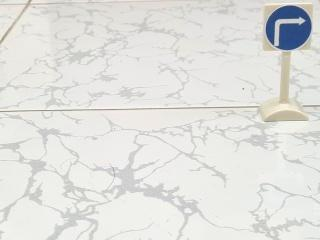right: (254, 0, 320, 60)
